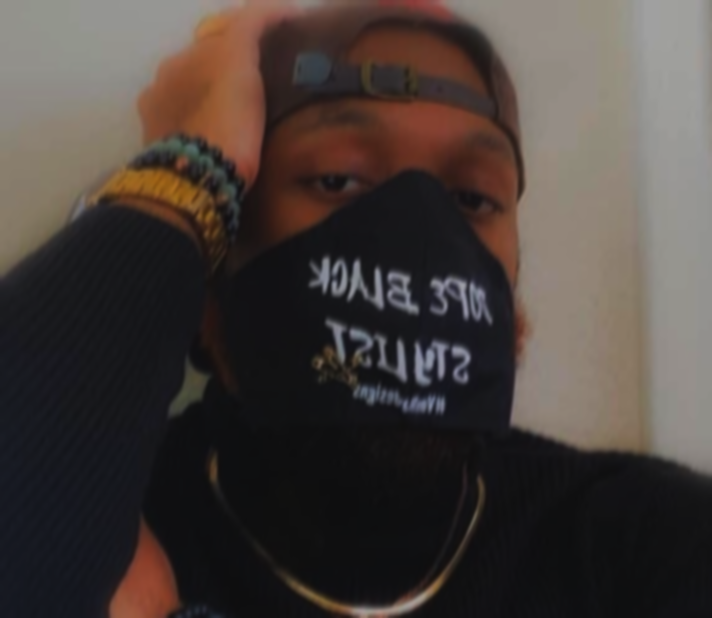mask_weared_incorrect: (178, 0, 543, 504)
